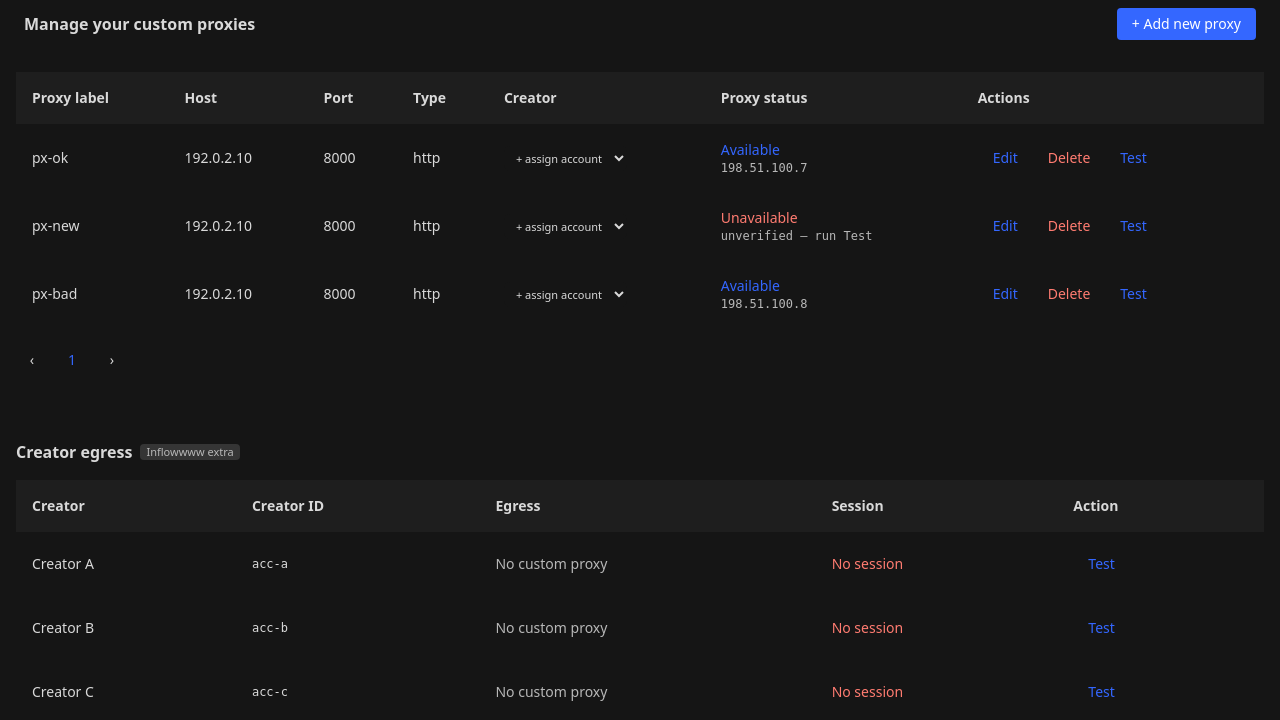
Test case: /creators/proxy › maps verified, unverified and failed-test proxies to the capture's two status labels
Check: the text "px-ok" is shown, box [16,124,169,192]
Check: the text "Available" in the row of "px-ok" is shown, box [721,140,780,159]
Note: The latest test outranks the stored verification.
Step 1. Click the button "Test" in the row of "px-bad" → (1134, 294), box [1105,278,1162,310]
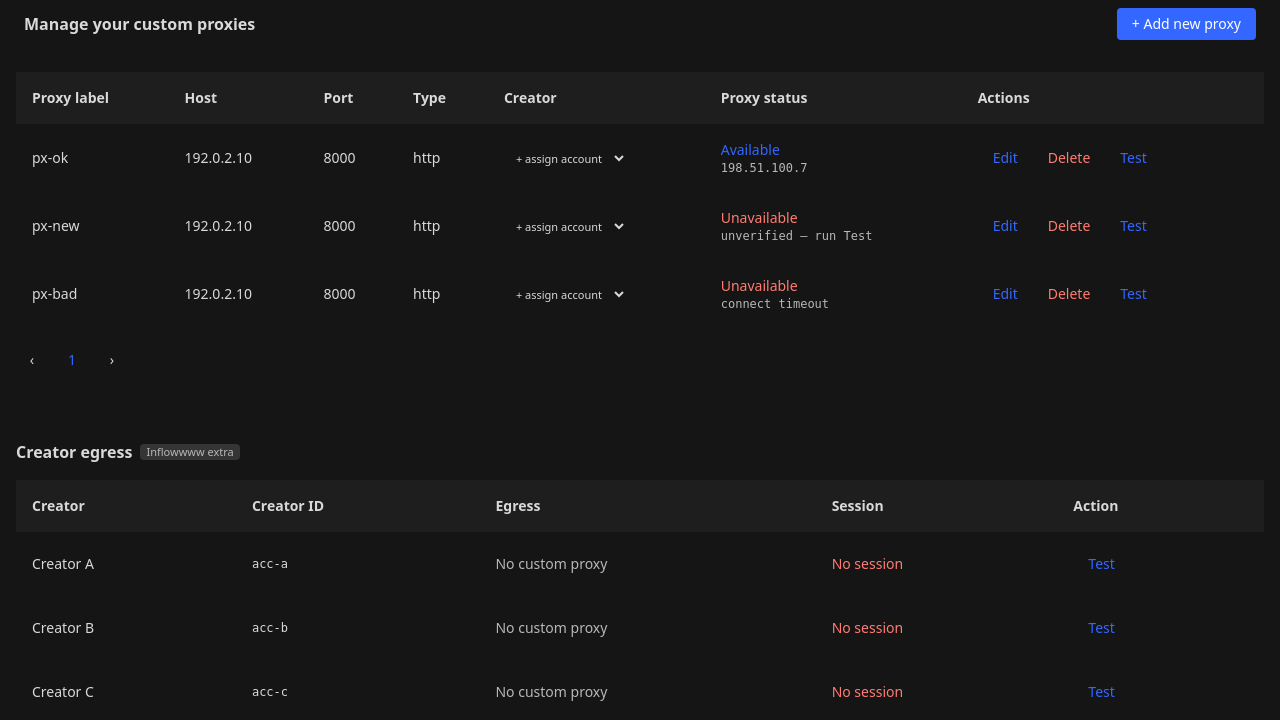
Check: the text "Unavailable" in the row of "px-bad" is shown, box [721,276,798,295]
